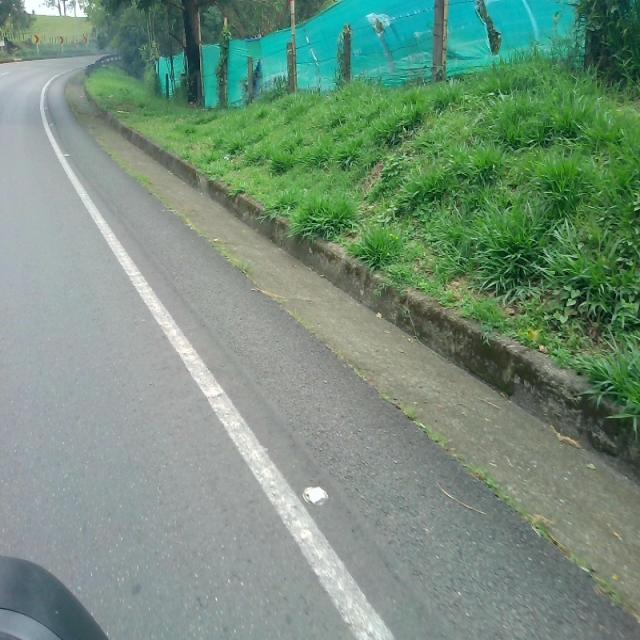DITCH: (15, 9, 638, 638), (41, 51, 638, 637)
